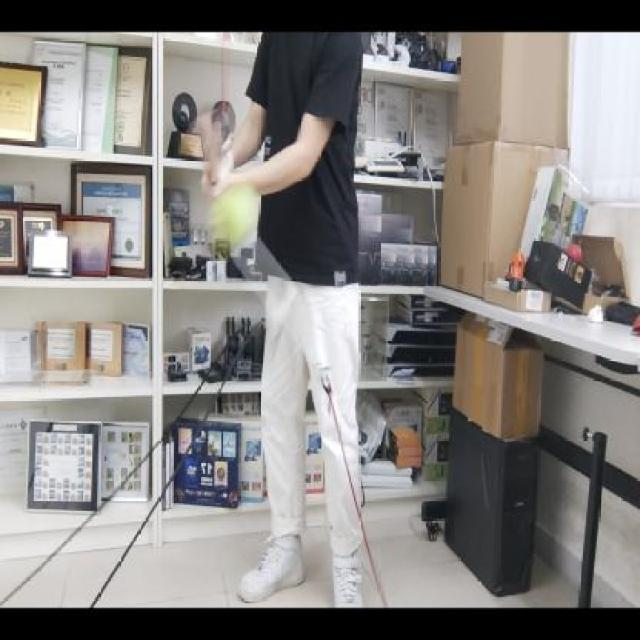baseball: (202, 189, 262, 253)
